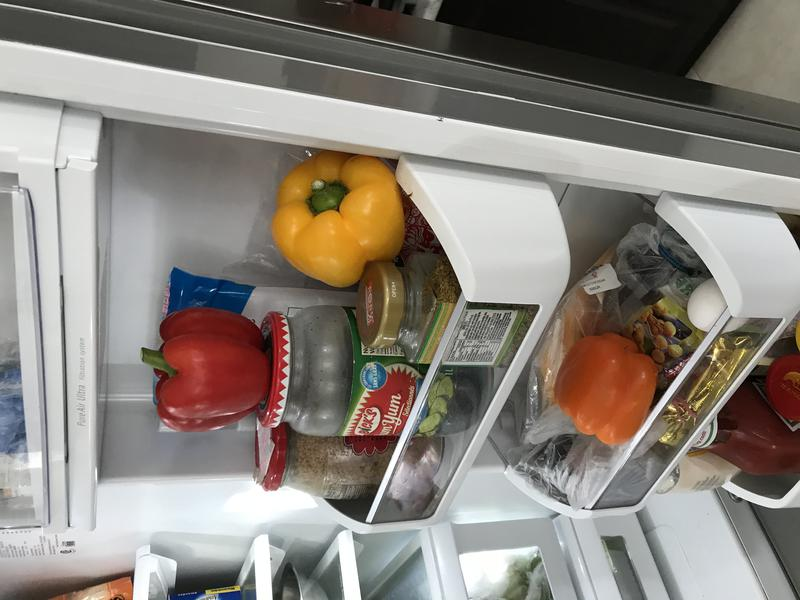orange_pepper: (547, 327, 659, 456)
red_pepper: (131, 300, 275, 432)
yellow_pepper: (269, 149, 413, 296)
